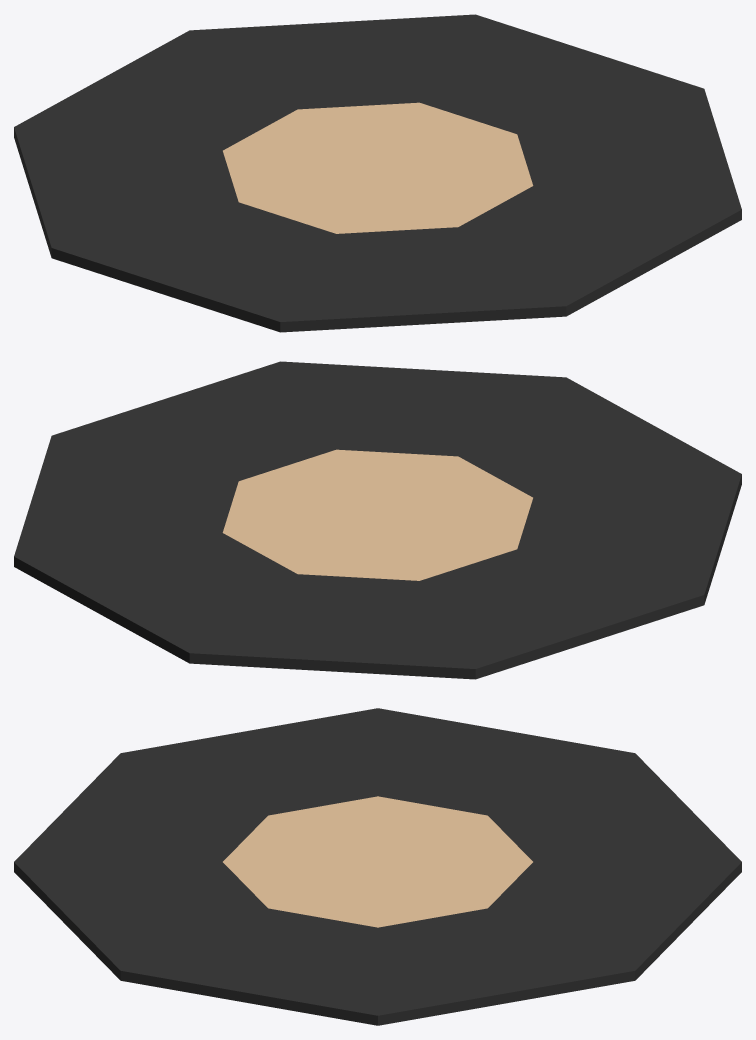
Rendered from vinyl.fbx.
3 renders of one model, top to bottom at view 1: azimuth 30°, elevation 25°; view 2: azimuth 150°, elevation 25°; view 3: azimuth 270°, elevation 25°, orthographic. The views are drawn at different scales.
Visible parts, largest first — view 1: disc; view 2: disc; view 3: disc.
Part boxes in pixels (left/top/right/bottom): disc: left=14, top=14, right=741, bottom=332; disc: left=14, top=361, right=741, bottom=679; disc: left=14, top=708, right=741, bottom=1025.
Size of the model in its own units: 40.03 by 0.6073 by 40.03.
